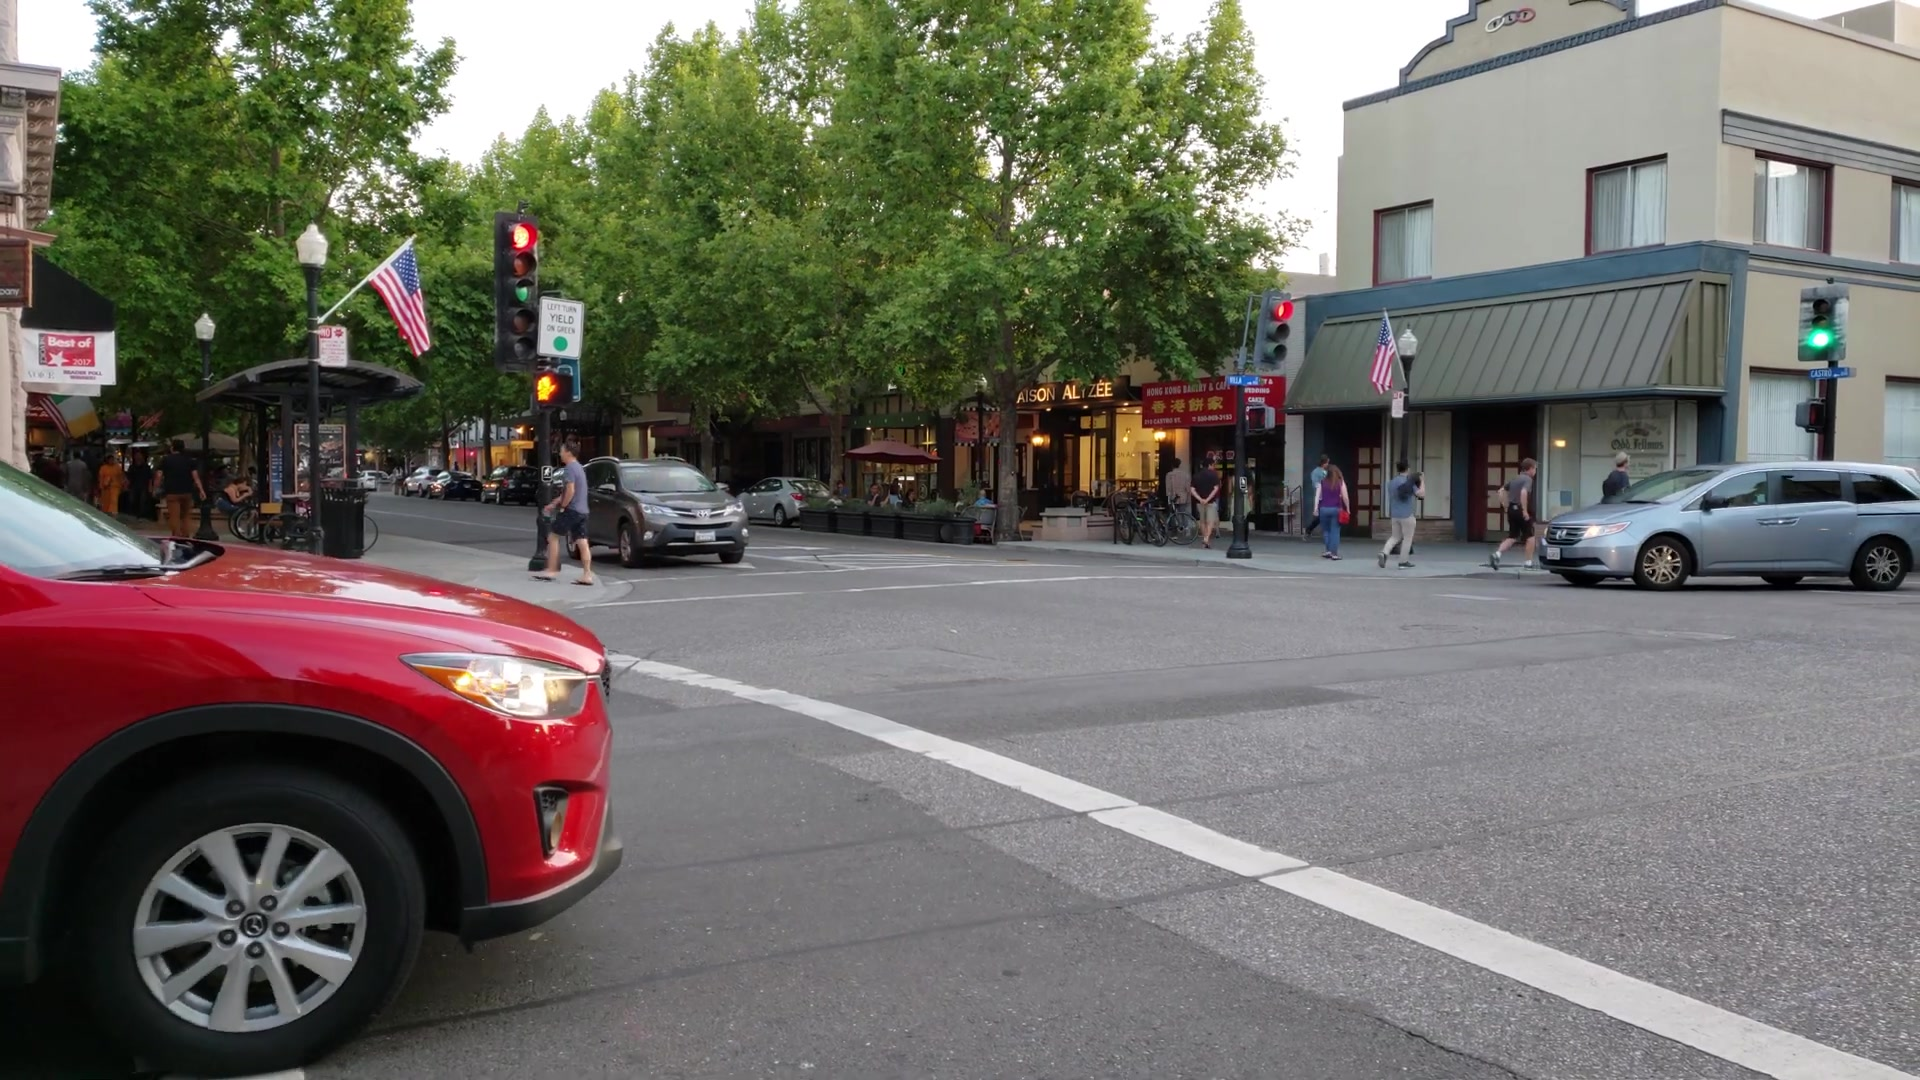vehicle: (1, 459, 618, 1064), (1536, 458, 1920, 592), (553, 450, 752, 570)
